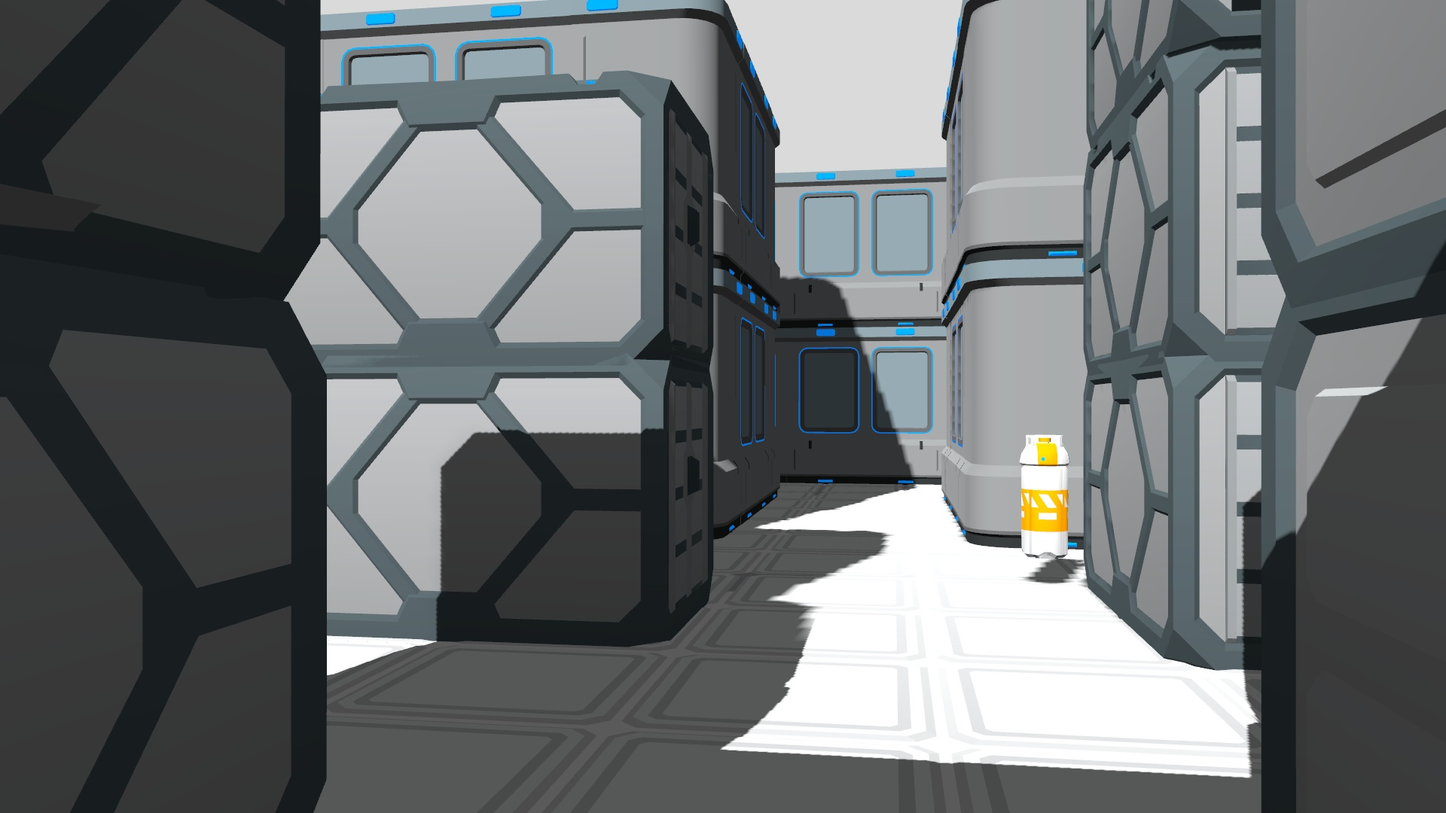yellow_barrel: (1018, 428, 1071, 563)
